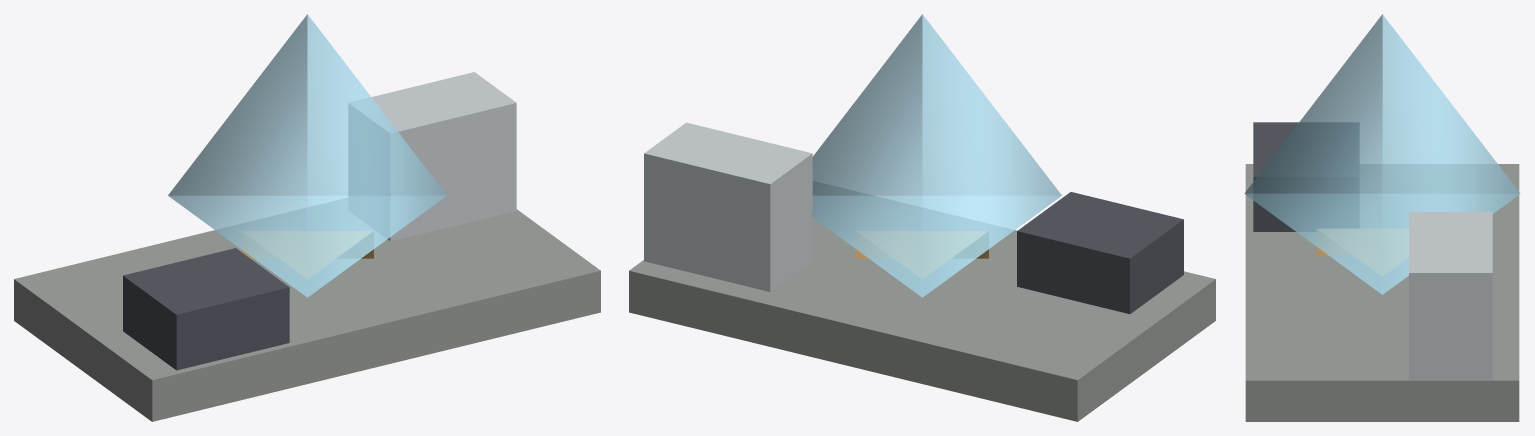
Rendered from prism-lab.glb.
3 renders of one model, left to right at view 1: azimuth 30°, elevation 25°; view 2: azimuth 150°, elevation 25°; view 3: azimuth 270°, elevation 25°, orthographic.
Parts seen in each view (by area): view 1: prism-lab free asset preview part 1, prism-lab free asset preview part 4, prism-lab free asset preview part 3, prism-lab free asset preview part 2, prism-lab free asset preview part 5; view 2: prism-lab free asset preview part 1, prism-lab free asset preview part 4, prism-lab free asset preview part 3, prism-lab free asset preview part 2, prism-lab free asset preview part 5; view 3: prism-lab free asset preview part 1, prism-lab free asset preview part 4, prism-lab free asset preview part 3, prism-lab free asset preview part 2, prism-lab free asset preview part 5.
Part boxes in pixels (left/top/right/bottom): prism-lab free asset preview part 1: left=14, top=198, right=600, bottom=421; prism-lab free asset preview part 4: left=168, top=14, right=446, bottom=297; prism-lab free asset preview part 3: left=349, top=72, right=516, bottom=241; prism-lab free asset preview part 2: left=123, top=248, right=289, bottom=370; prism-lab free asset preview part 5: left=241, top=231, right=373, bottom=278; prism-lab free asset preview part 1: left=629, top=181, right=1215, bottom=421; prism-lab free asset preview part 4: left=812, top=14, right=1061, bottom=297; prism-lab free asset preview part 3: left=644, top=122, right=812, bottom=291; prism-lab free asset preview part 2: left=1017, top=192, right=1183, bottom=314; prism-lab free asset preview part 5: left=856, top=231, right=988, bottom=278; prism-lab free asset preview part 1: left=1245, top=164, right=1519, bottom=421; prism-lab free asset preview part 4: left=1244, top=14, right=1520, bottom=294; prism-lab free asset preview part 3: left=1409, top=212, right=1492, bottom=379; prism-lab free asset preview part 2: left=1253, top=122, right=1358, bottom=231; prism-lab free asset preview part 5: left=1316, top=229, right=1408, bottom=275.
Bounding box in the file's own units: 1.35 × 0.87 × 0.7275.
